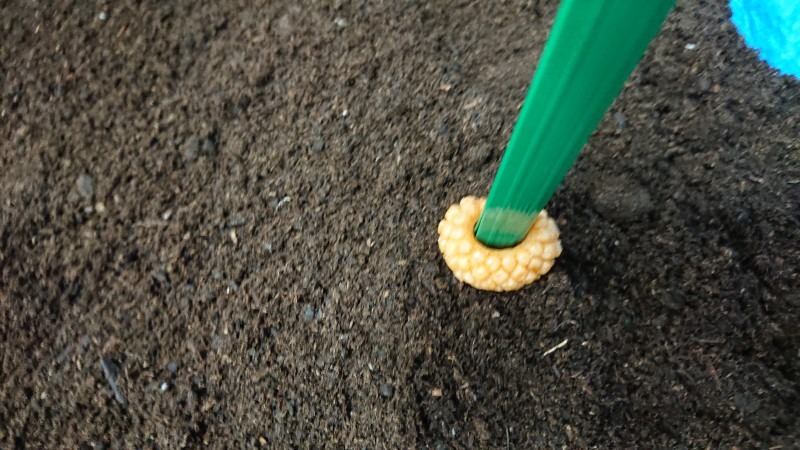eggs: (433, 192, 568, 292)
